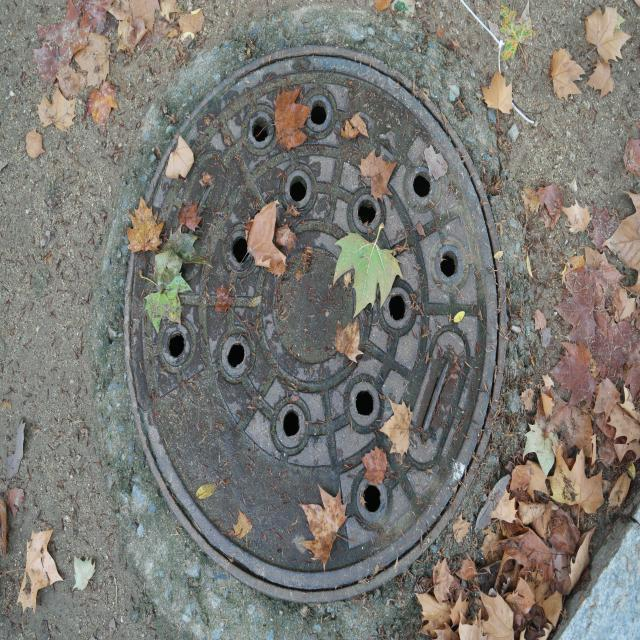manhole: (125, 48, 501, 602)
